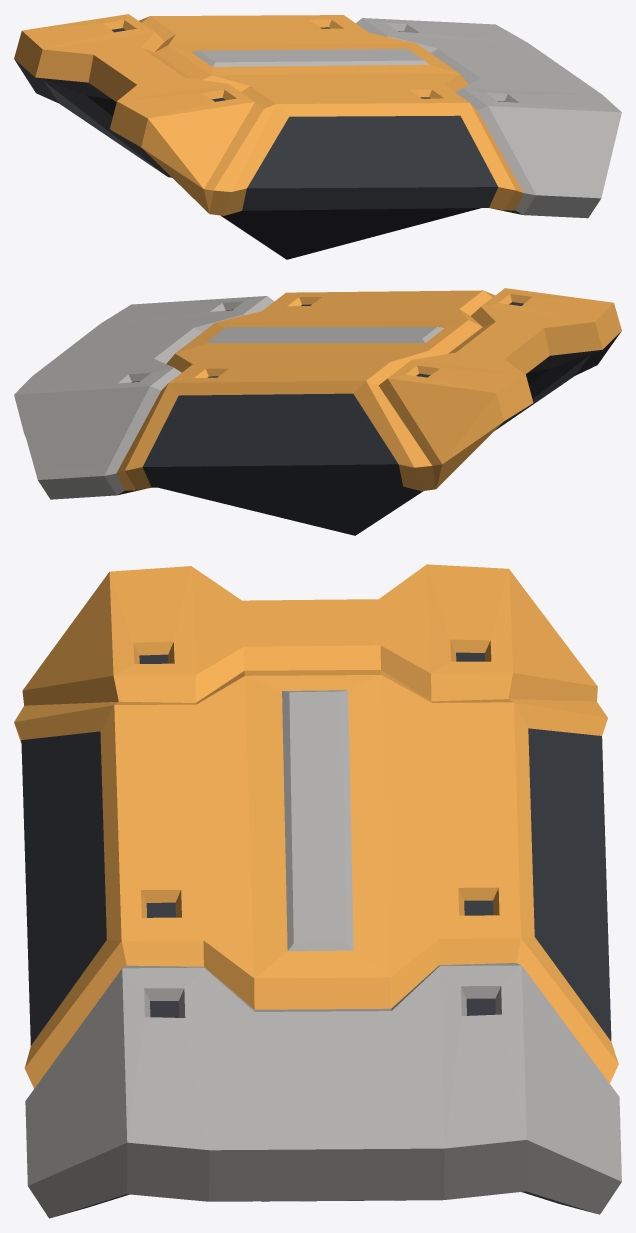
The model's file is worlds_SM_Chr_Attach_Shoulder_Large_L_01.gltf.
3 views of the same model, one above another, from view 1: azimuth 30°, elevation 25°; view 2: azimuth 150°, elevation 25°; view 3: azimuth 270°, elevation 25° (orthographic). The views are drawn at different scales.
Visible parts, largest first — view 1: SM_Chr_Attach_Shoulder_Large_L_01; view 2: SM_Chr_Attach_Shoulder_Large_L_01; view 3: SM_Chr_Attach_Shoulder_Large_L_01.
Part boxes in pixels (<box>): SM_Chr_Attach_Shoulder_Large_L_01: <box>14,14,621,259</box>; SM_Chr_Attach_Shoulder_Large_L_01: <box>14,288,621,535</box>; SM_Chr_Attach_Shoulder_Large_L_01: <box>14,564,621,1218</box>.
Size of the model in its own units: 0.3876 by 0.1406 by 0.2489.
Materials: 1 (1 with a texture image).
